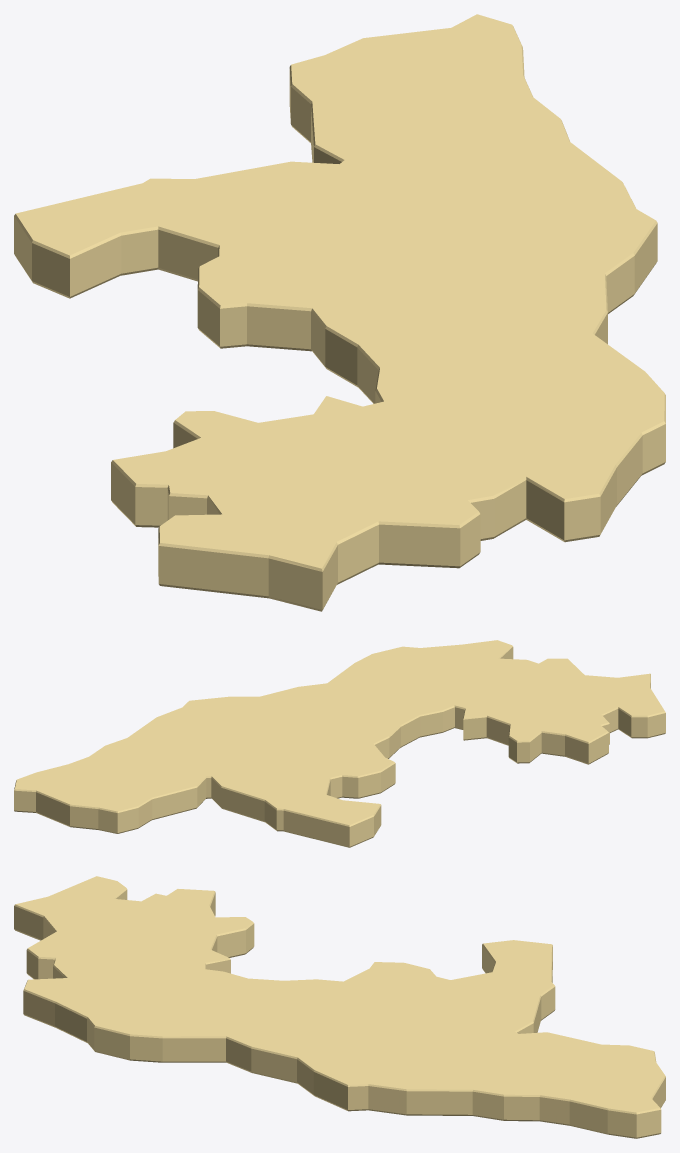
The model's file is COG.glb.
3 renders of one model, top to bottom at view 1: azimuth 30°, elevation 25°; view 2: azimuth 150°, elevation 25°; view 3: azimuth 270°, elevation 25°, orthographic. The views are drawn at different scales.
Size of the model in its own units: 1.32 by 0.068 by 1.53.
